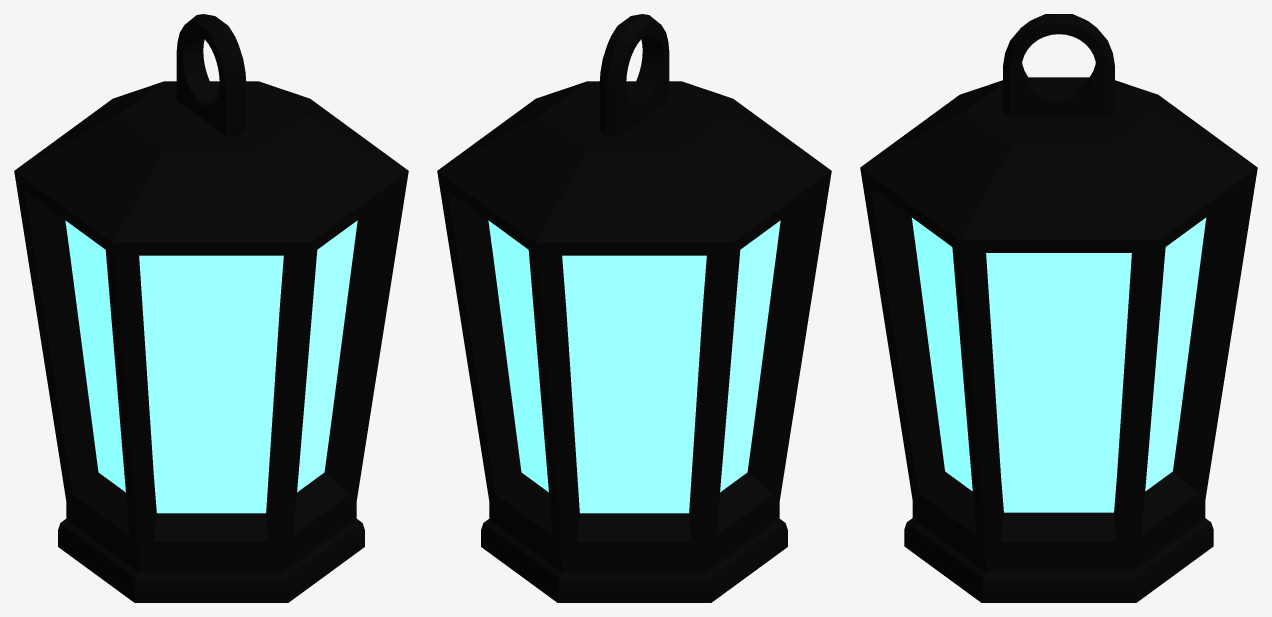
File: Lanter_P3.fbx
3 renders of one model, left to right at view 1: azimuth 30°, elevation 25°; view 2: azimuth 150°, elevation 25°; view 3: azimuth 270°, elevation 25°, orthographic.
Visible parts, largest first — view 1: Lantern, Light; view 2: Lantern, Light; view 3: Lantern, Light.
Boxes of the visible parts, left/top/right/bottom form: Lantern: left=14, top=14, right=408, bottom=602; Light: left=65, top=220, right=357, bottom=513; Lantern: left=437, top=14, right=831, bottom=602; Light: left=488, top=220, right=780, bottom=513; Lantern: left=860, top=14, right=1257, bottom=602; Light: left=911, top=217, right=1206, bottom=512.
Bounding box in the file's own units: 520 × 884 × 600.
